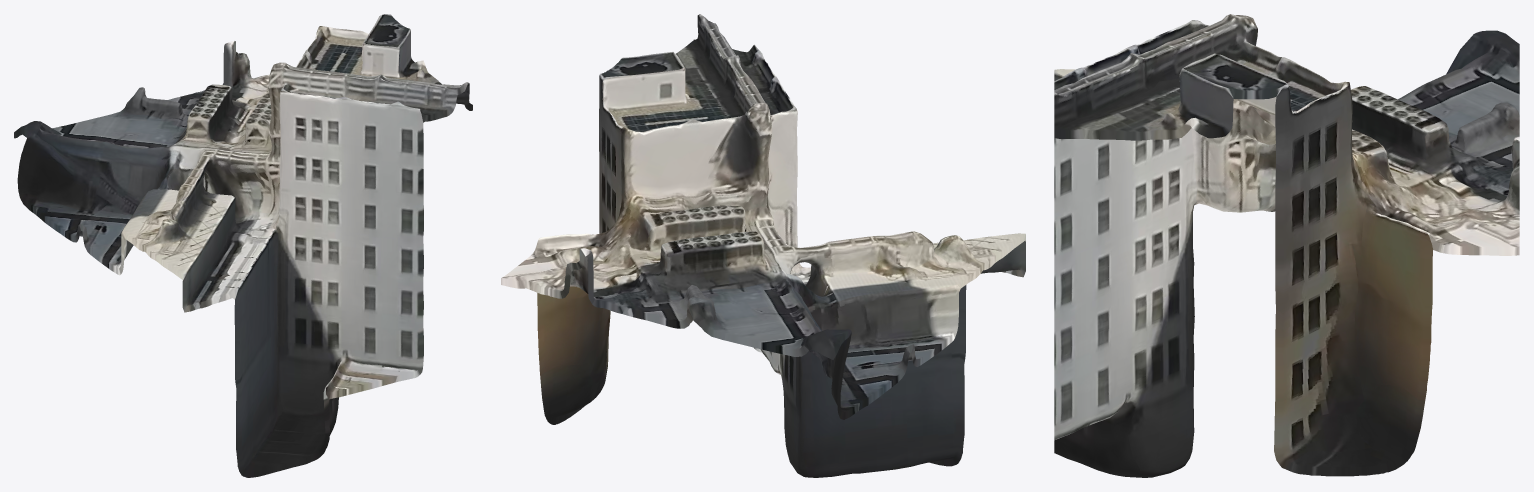
The model's file is z20-167782-405232-h0-yup-uvflip-v3-world.glb.
3 views of the same model, side by side, from view 1: azimuth 30°, elevation 25°; view 2: azimuth 150°, elevation 25°; view 3: azimuth 270°, elevation 25° (orthographic). The views are drawn at different scales.
Size of the model in its own units: 30.16 by 34.76 by 30.32.
1 material, 1 textured.
